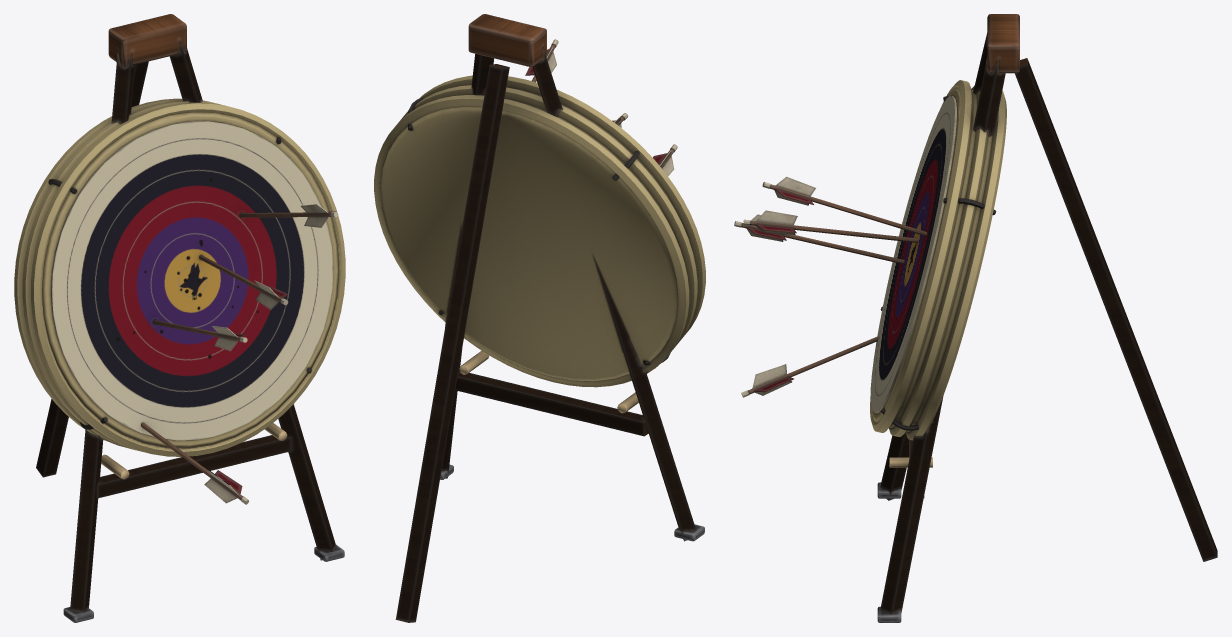
File: ArcheryTarget.fbx
3 views of the same model, side by side, from view 1: azimuth 30°, elevation 25°; view 2: azimuth 150°, elevation 25°; view 3: azimuth 270°, elevation 25° (orthographic).
Visible parts, largest first — view 1: ArcheryTarget; view 2: ArcheryTarget; view 3: ArcheryTarget.
Boxes of the visible parts, x1,y1,x2,y2 form: ArcheryTarget: (14,14,345,622); ArcheryTarget: (374,14,705,622); ArcheryTarget: (734,14,1217,622).
Size of the model in its own units: 332 by 537 by 444.
